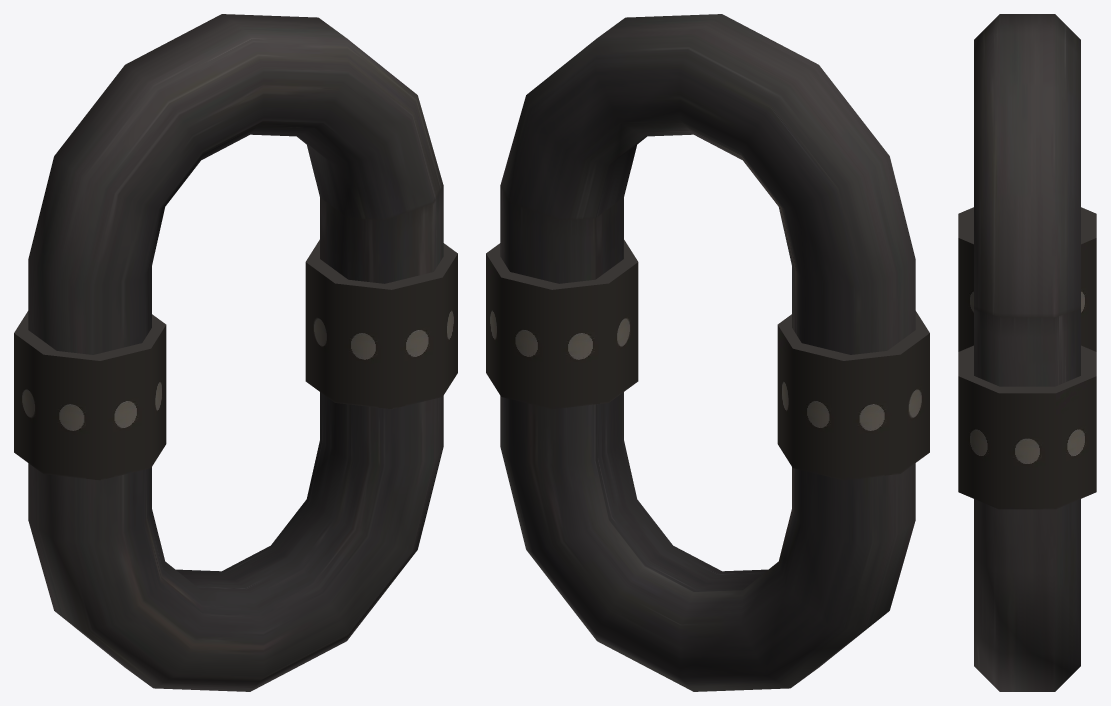
File: SM_Prop_InfernoChainLink.glb
The picture shows the model from 3 angles, left to right: view 1: azimuth 30°, elevation 25°; view 2: azimuth 150°, elevation 25°; view 3: azimuth 270°, elevation 25°; orthographic projection. The views are drawn at different scales.
Parts seen in each view (by area): view 1: SM_Prop_InfernoChainLink_LOD0; view 2: SM_Prop_InfernoChainLink_LOD0; view 3: SM_Prop_InfernoChainLink_LOD0.
Part boxes in pixels (<box>): SM_Prop_InfernoChainLink_LOD0: <box>14,14,457,691</box>; SM_Prop_InfernoChainLink_LOD0: <box>486,14,929,691</box>; SM_Prop_InfernoChainLink_LOD0: <box>958,14,1096,691</box>.
Size of what is drawn, in the model's own units: 0.654 by 0.9907 by 0.194.
1 material, 1 textured.
